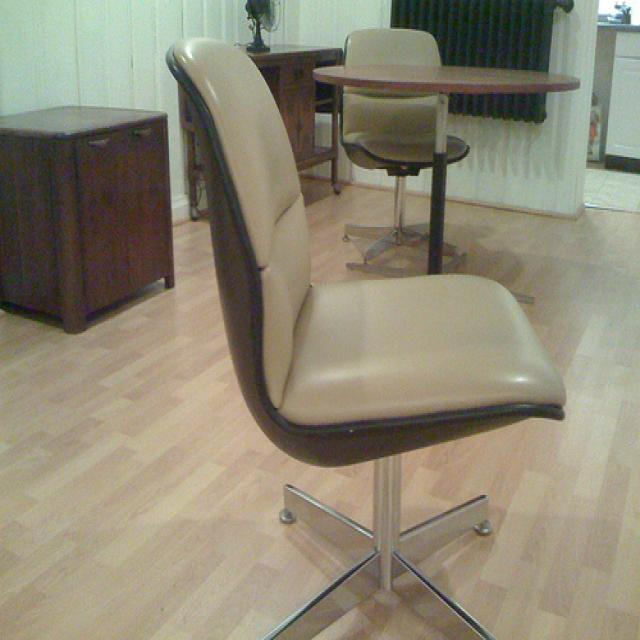chair: (164, 32, 567, 640)
